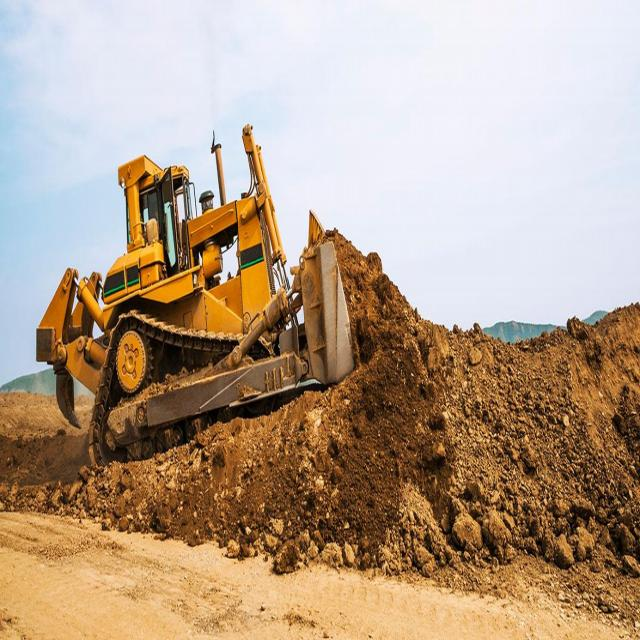Bulldozer: (35, 112, 368, 481)
